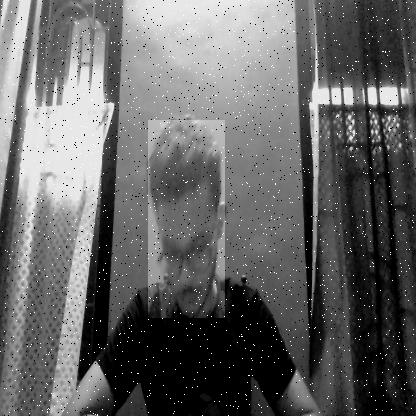Distracted: (148, 120, 225, 318)
